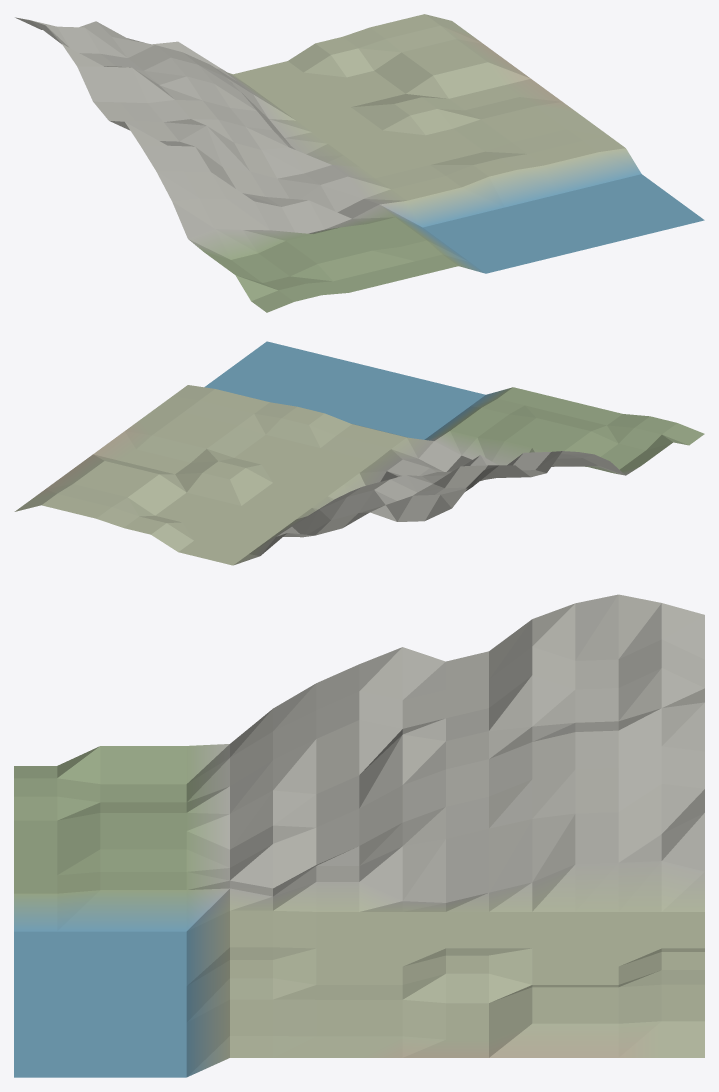
3 renders of one model, top to bottom at view 1: azimuth 30°, elevation 25°; view 2: azimuth 150°, elevation 25°; view 3: azimuth 270°, elevation 25°, orthographic. The views are drawn at different scales.
Size of the model in its own units: 32 by 9.76 by 32.
